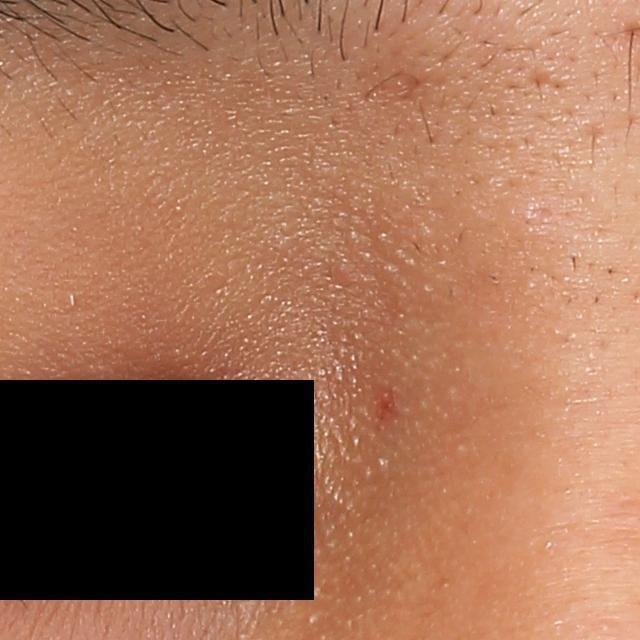nevus: (368, 384, 402, 431)
